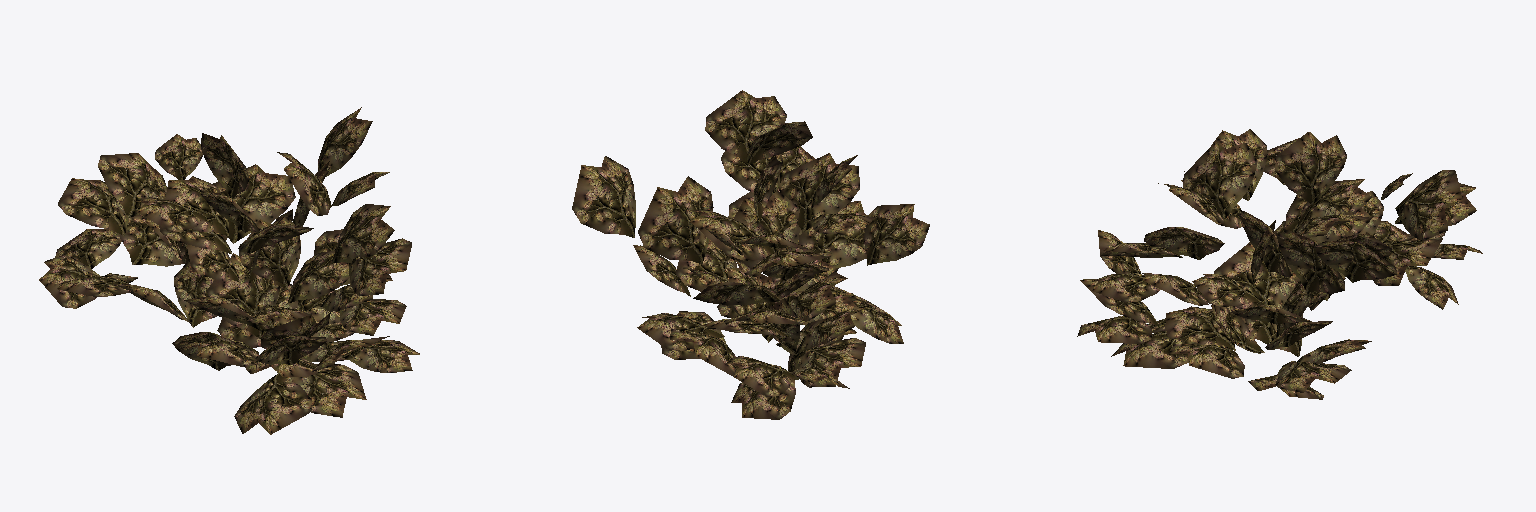
3 renders of one model, left to right at view 1: azimuth 30°, elevation 25°; view 2: azimuth 150°, elevation 25°; view 3: azimuth 270°, elevation 25°, orthographic.
Parts seen in each view (by area): view 1: leaves_Mesh.002; view 2: leaves_Mesh.002; view 3: leaves_Mesh.002.
Part boxes in pixels (x1,y1,x2,y2): leaves_Mesh.002: (39,107,419,434); leaves_Mesh.002: (572,90,929,419); leaves_Mesh.002: (1077,129,1482,399).
Bounding box in the file's own units: 4.39 × 3.3 × 5.26.
1 materials, 1 textured.